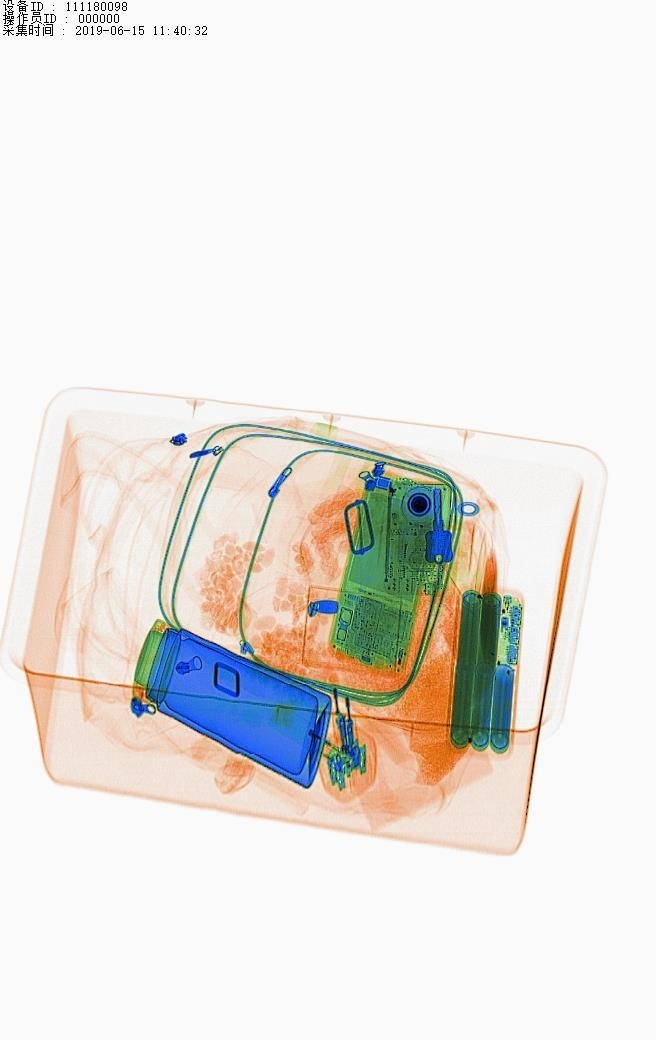NonmetallicFire: (257, 699, 364, 774)
